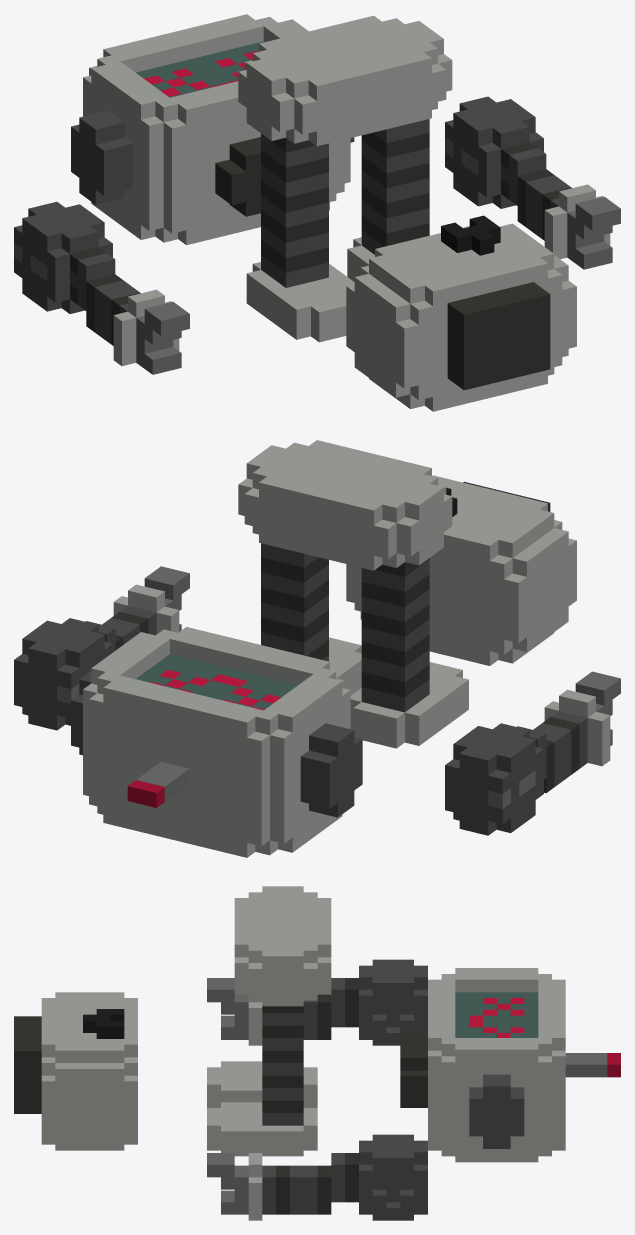
File: player_main_death_4.fbx
3 renders of one model, top to bottom at view 1: azimuth 30°, elevation 25°; view 2: azimuth 150°, elevation 25°; view 3: azimuth 270°, elevation 25°, orthographic. The views are drawn at different scales.
Visible parts, largest first — view 1: model_8; view 2: model_8; view 3: model_8.
Boxes of the visible parts, <box> form: model_8: <box>14,14,620,411</box>; model_8: <box>14,440,620,857</box>; model_8: <box>14,886,620,1220</box>.
Size of the model in its own units: 340 by 440 by 160.
